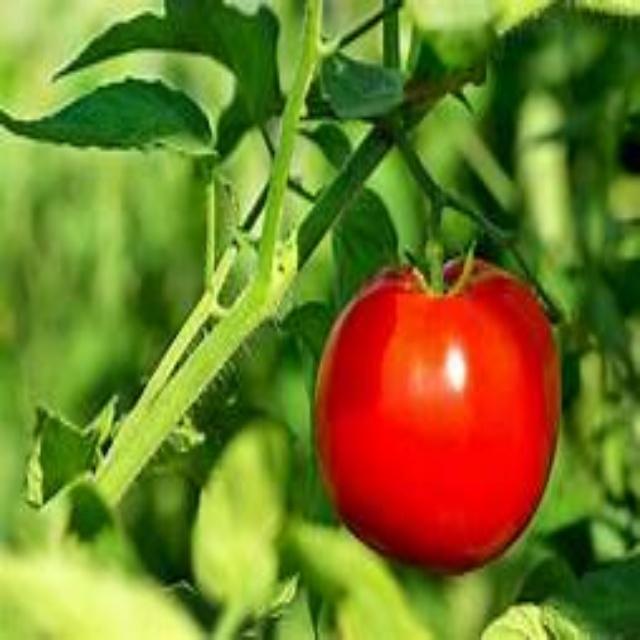tomato: (349, 247, 557, 577)
